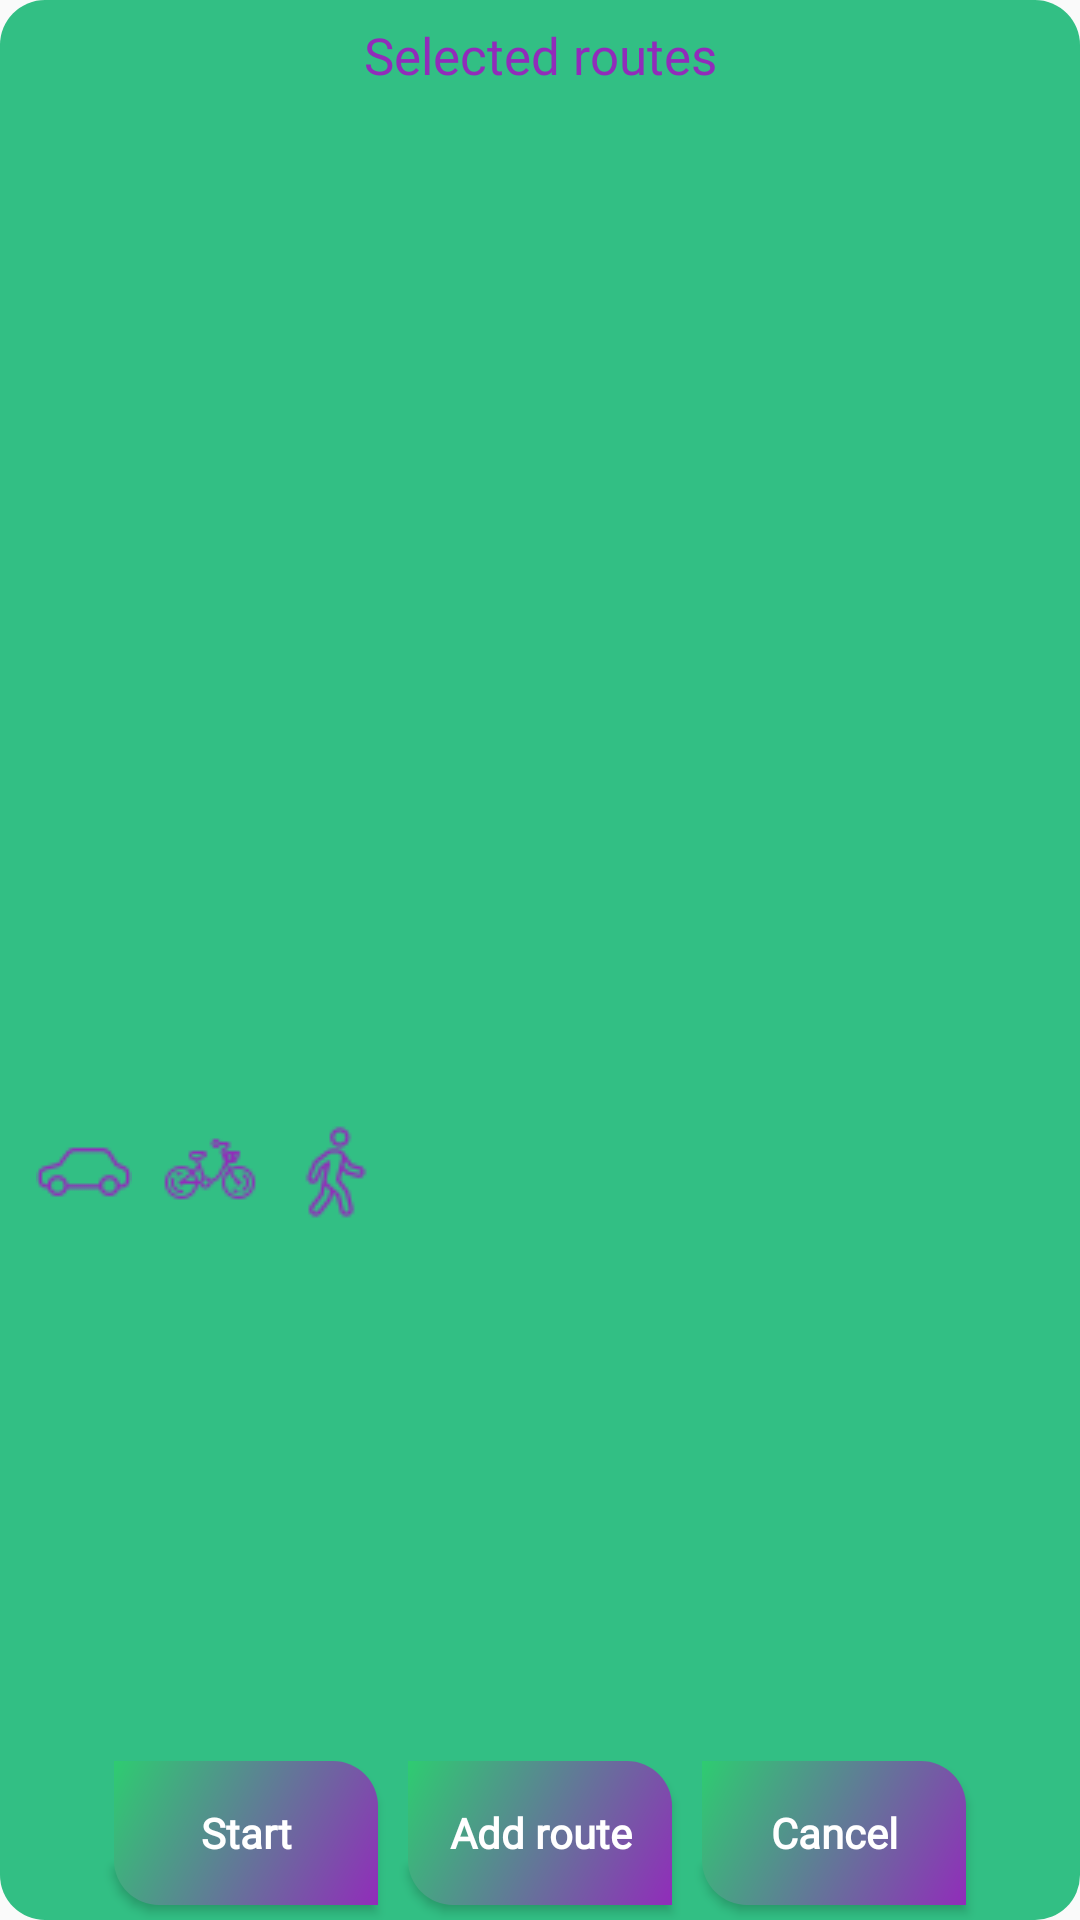

Icon bounding boxes for this 1080x1920 phone screenshot, format (left=x1, top=y1, right=x2, bottom=y2):
bike: (left=164, top=1138, right=256, bottom=1200)
car: (left=36, top=1147, right=132, bottom=1197)
walking: (left=306, top=1126, right=366, bottom=1218)
